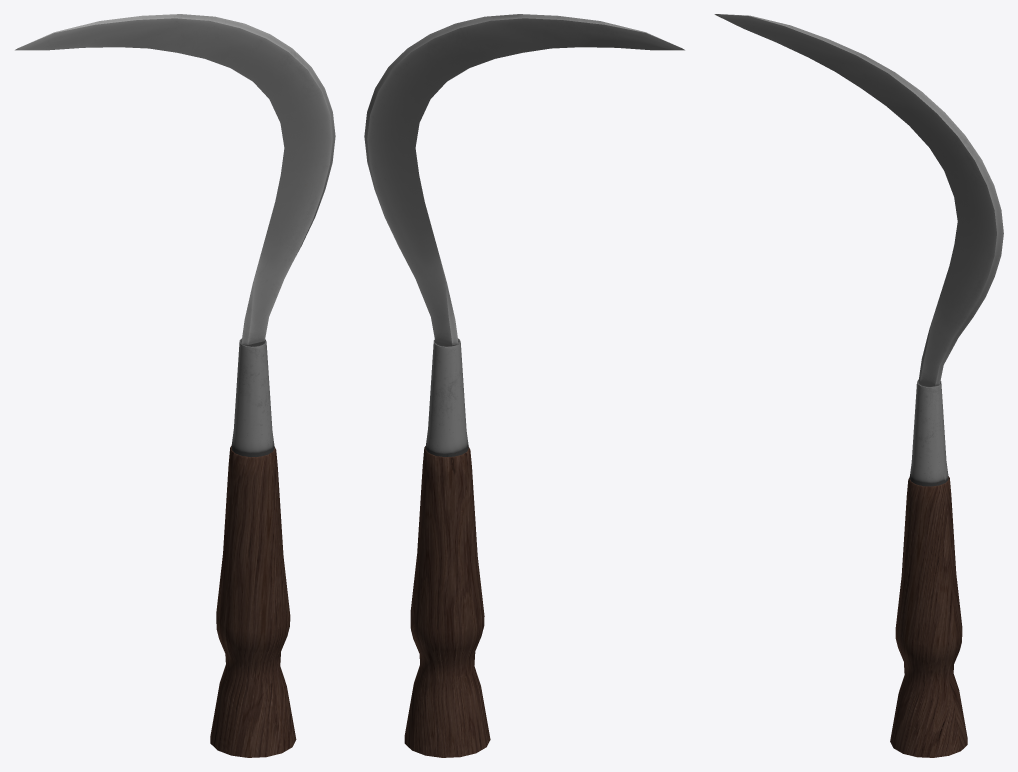
The model's file is celurit.gltf.
3 renders of one model, left to right at view 1: azimuth 30°, elevation 25°; view 2: azimuth 150°, elevation 25°; view 3: azimuth 330°, elevation 25°, orthographic. The views are drawn at different scales.
Parts seen in each view (by area): view 1: Plane.002_0; view 2: Plane.002_0; view 3: Plane.002_0.
Part boxes in pixels (bbox=[...]): Plane.002_0: bbox=[15, 14, 335, 757]; Plane.002_0: bbox=[364, 14, 684, 757]; Plane.002_0: bbox=[714, 14, 1003, 757].
Size of the model in its own units: 1.65 by 3.72 by 0.3828.
Materials: 1 (1 with a texture image).
